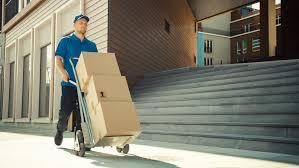Boxes: (91, 101, 140, 143), (85, 75, 131, 115), (75, 52, 120, 92)
